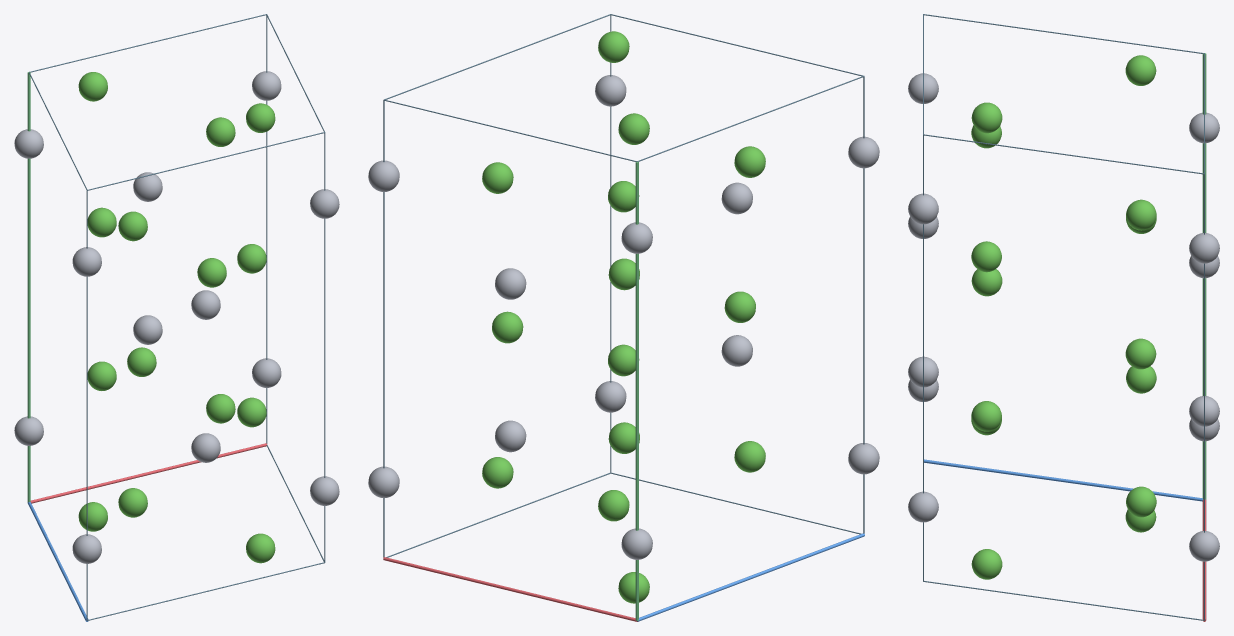
File: cod-1535669.glb
3 views of the same model, side by side, from view 1: azimuth 30°, elevation 25°; view 2: azimuth 150°, elevation 25°; view 3: azimuth 270°, elevation 25° (orthographic). The views are drawn at different scales.
Visible parts, largest first — view 1: Al1 · Al · 1 (×12), Ô mạng và các trục a, b, c, Cl2 · Cl · 1 (×8), Cl1 · Cl · 1 (×6); view 2: Al1 · Al · 1 (×12), Ô mạng và các trục a, b, c, Cl2 · Cl · 1 (×8), Cl1 · Cl · 1 (×6); view 3: Al1 · Al · 1 (×12), Ô mạng và các trục a, b, c, Cl1 · Cl · 1 (×6), Cl2 · Cl · 1 (×6).
Boxes of the visible parts, x1=… form: Al1 · Al · 1 (×12): x1=14, y1=71, x2=339, y2=563; Ô mạng và các trục a, b, c: x1=27, y1=14, x2=325, y2=621; Cl2 · Cl · 1 (×8): x1=87, y1=117, x2=266, y2=517; Cl1 · Cl · 1 (×6): x1=78, y1=72, x2=275, y2=563; Al1 · Al · 1 (×12): x1=368, y1=75, x2=879, y2=559; Ô mạng và các trục a, b, c: x1=383, y1=14, x2=864, y2=621; Cl2 · Cl · 1 (×8): x1=482, y1=146, x2=765, y2=488; Cl1 · Cl · 1 (×6): x1=492, y1=31, x2=755, y2=603; Al1 · Al · 1 (×12): x1=908, y1=73, x2=1219, y2=561; Ô mạng và các trục a, b, c: x1=923, y1=14, x2=1206, y2=621; Cl1 · Cl · 1 (×6): x1=971, y1=55, x2=1156, y2=579; Cl2 · Cl · 1 (×6): x1=971, y1=125, x2=1156, y2=517.
Bounding box in the file's own units: 8.48 × 10.87 × 6.48.
